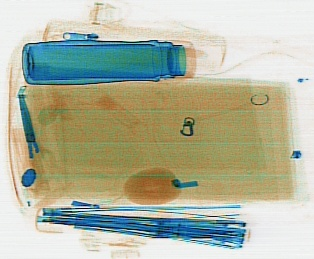scissors: (17, 92, 56, 192)
